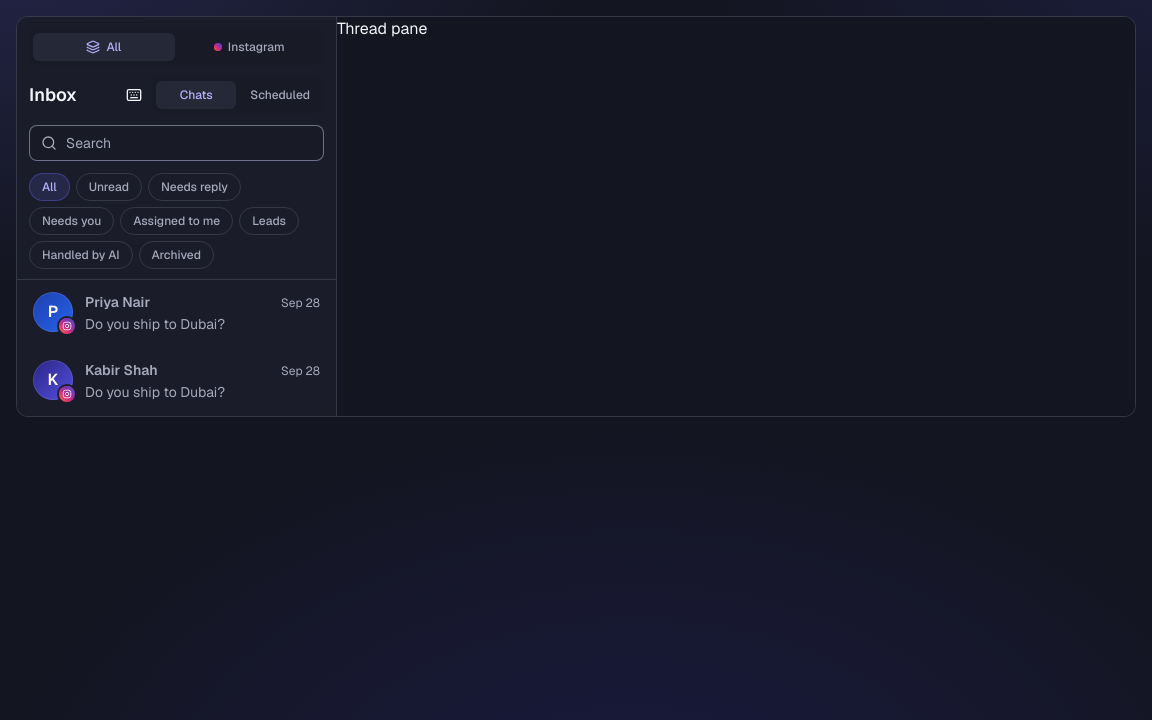
Test: single-key shortcuts switch (D-14) › the list header's keyboard button opens it, and Esc returns focus to the button
Expected: the text "Kabir Shah" is shown, [85,361,158,379]
Click the button named "Keyboard shortcuts".
click(134, 95)  # box [120,81,148,109]
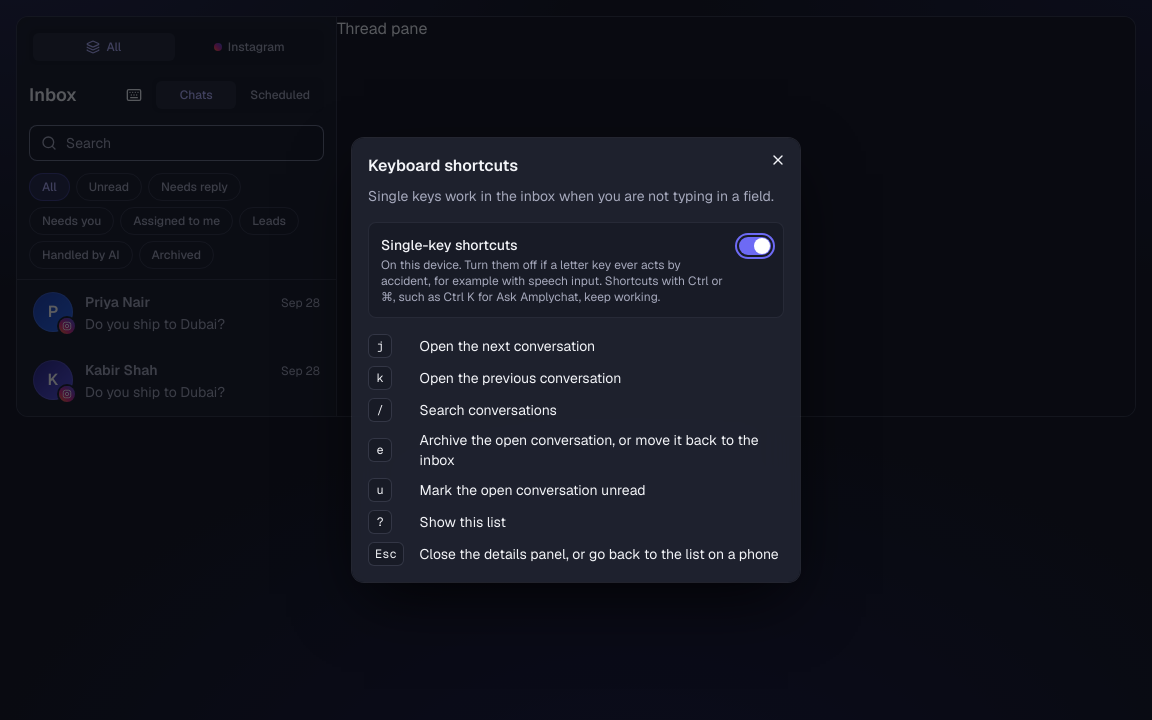
Expected: the dialog "Keyboard shortcuts" is shown, [352,138,800,582]
Press Escape
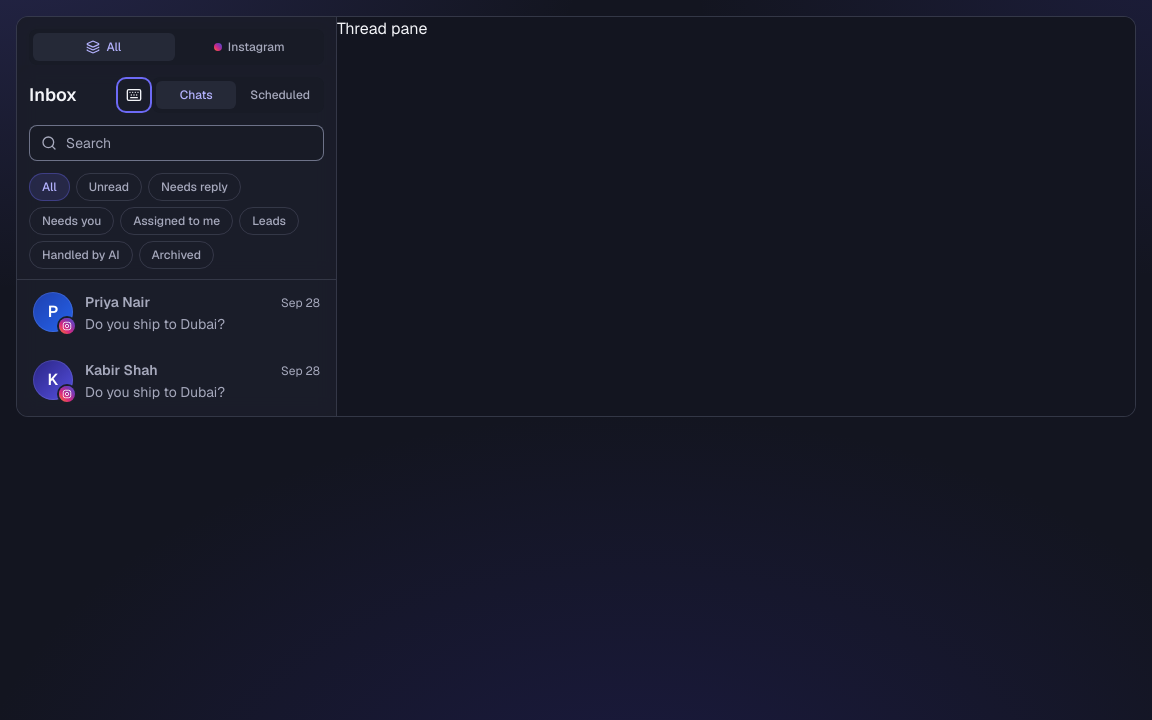
Expected: the dialog is gone
